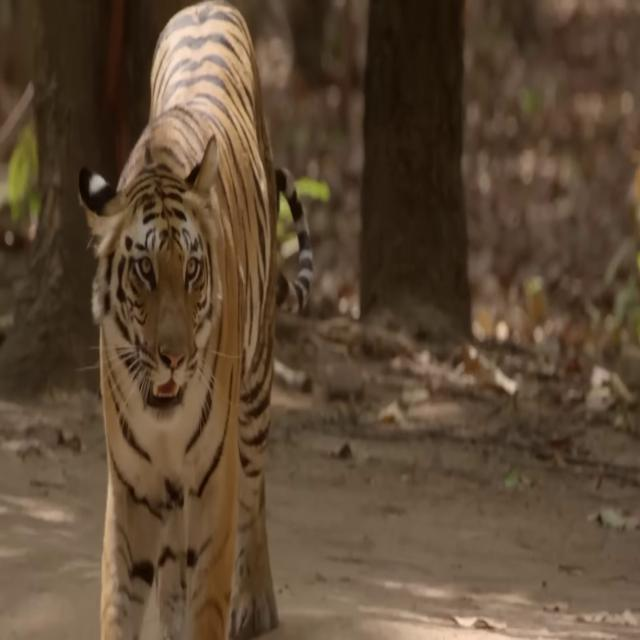tiger: (79, 0, 314, 640)
